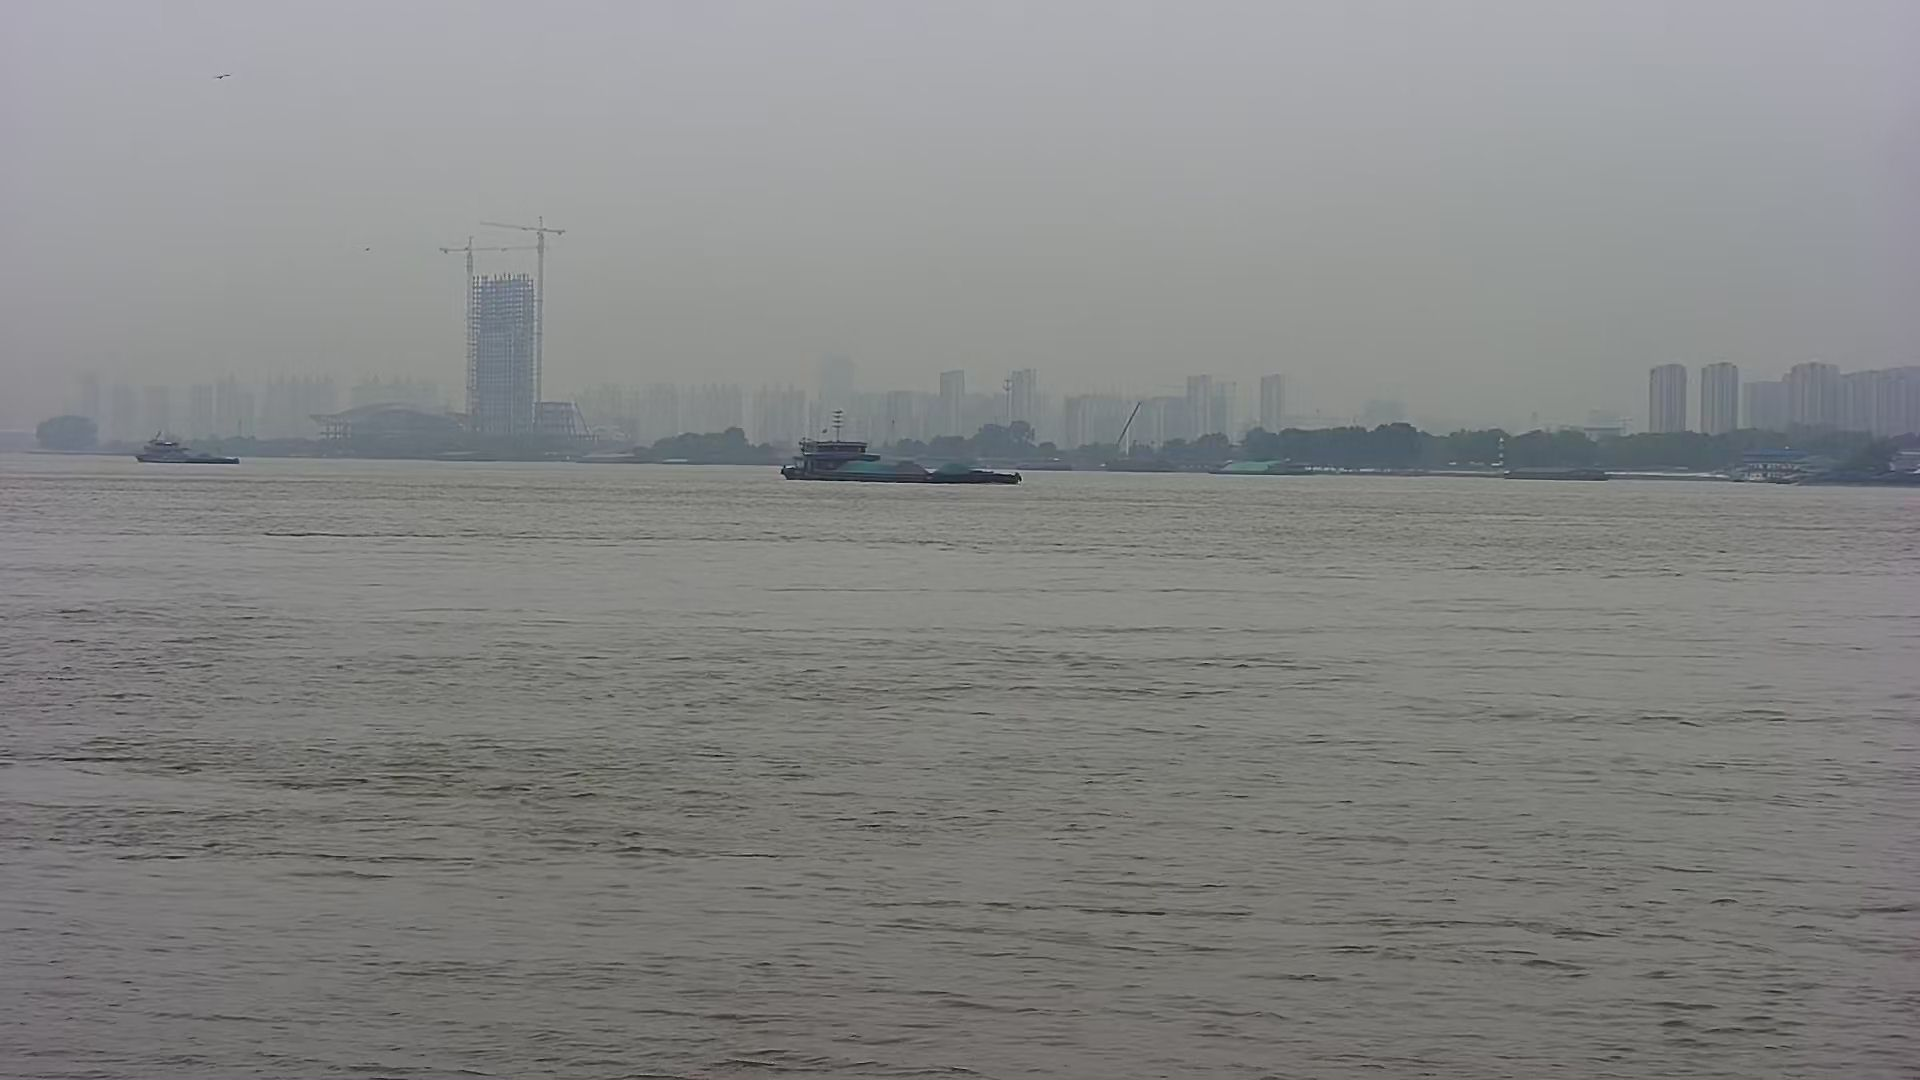ship: (781, 413, 1031, 489), (133, 422, 245, 469)
